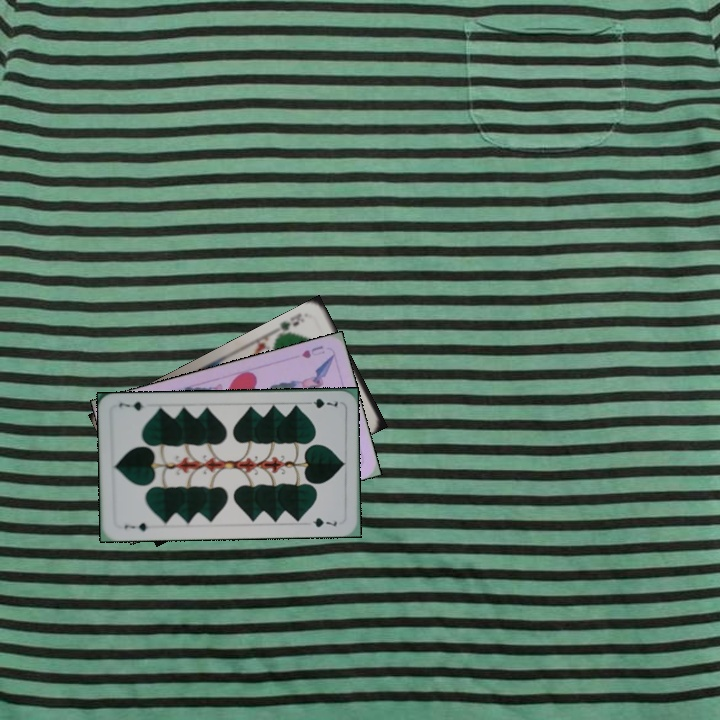G7: (301, 394, 340, 411), (120, 519, 155, 533)
GK: (275, 309, 304, 337)
HU: (298, 341, 327, 361)
